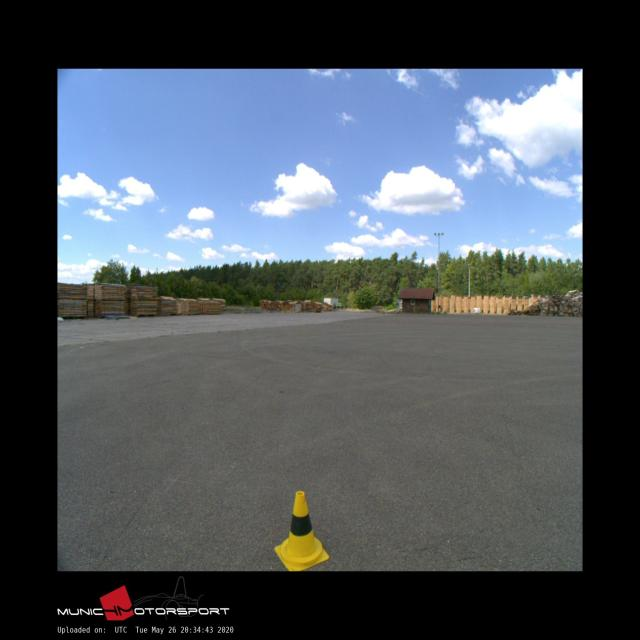yellow_cone: (274, 491, 328, 571)
